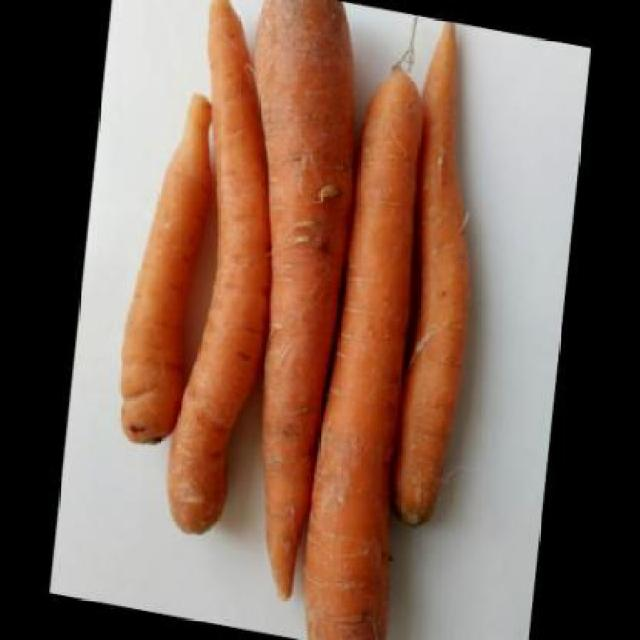carrot: (195, 0, 372, 605), (297, 52, 446, 639), (154, 0, 300, 546), (375, 18, 500, 534), (117, 83, 218, 452)
